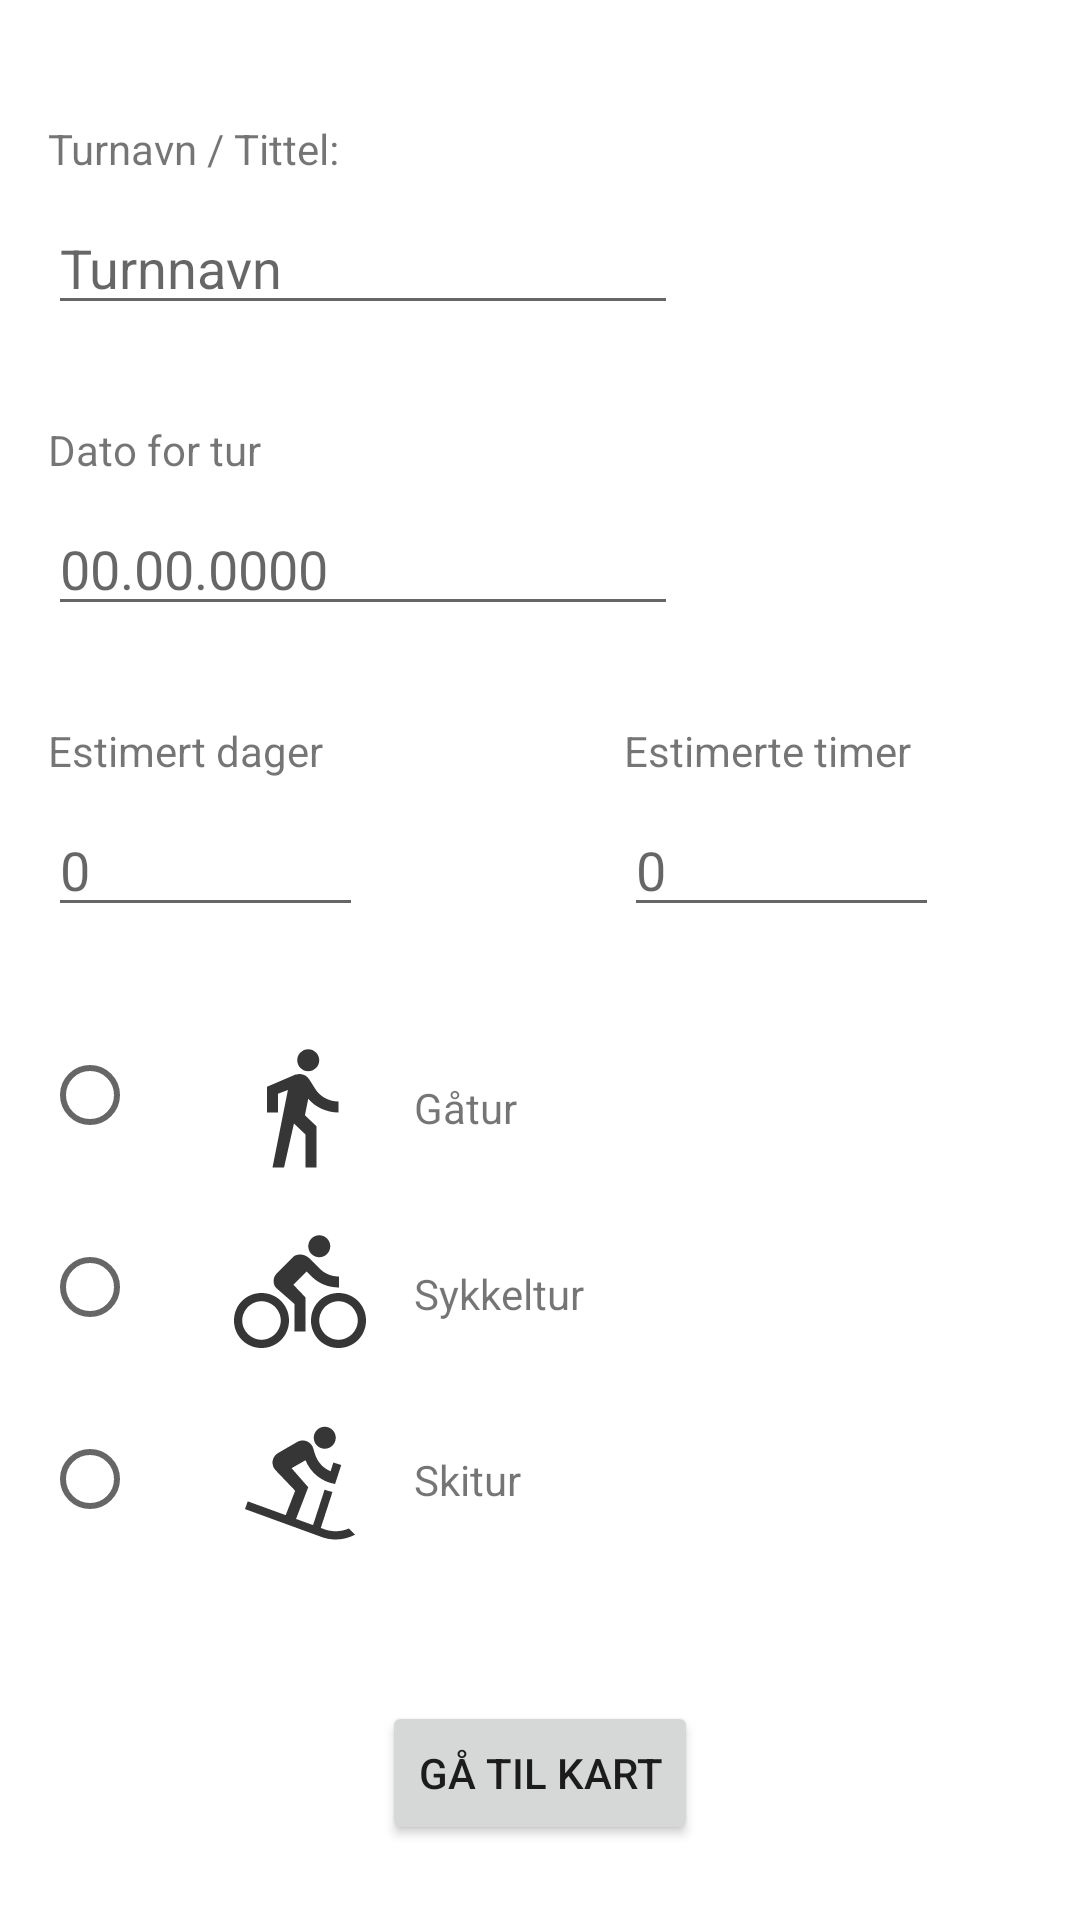

Point at icon controls on the screen. Image size 1080px x 1920px, points as (x,y).
directions bike: (300,1291)
directions walk: (303,1108)
downhill skiing: (300,1483)
